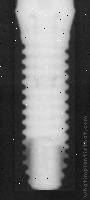BioHorizons: (15, 0, 75, 191)
